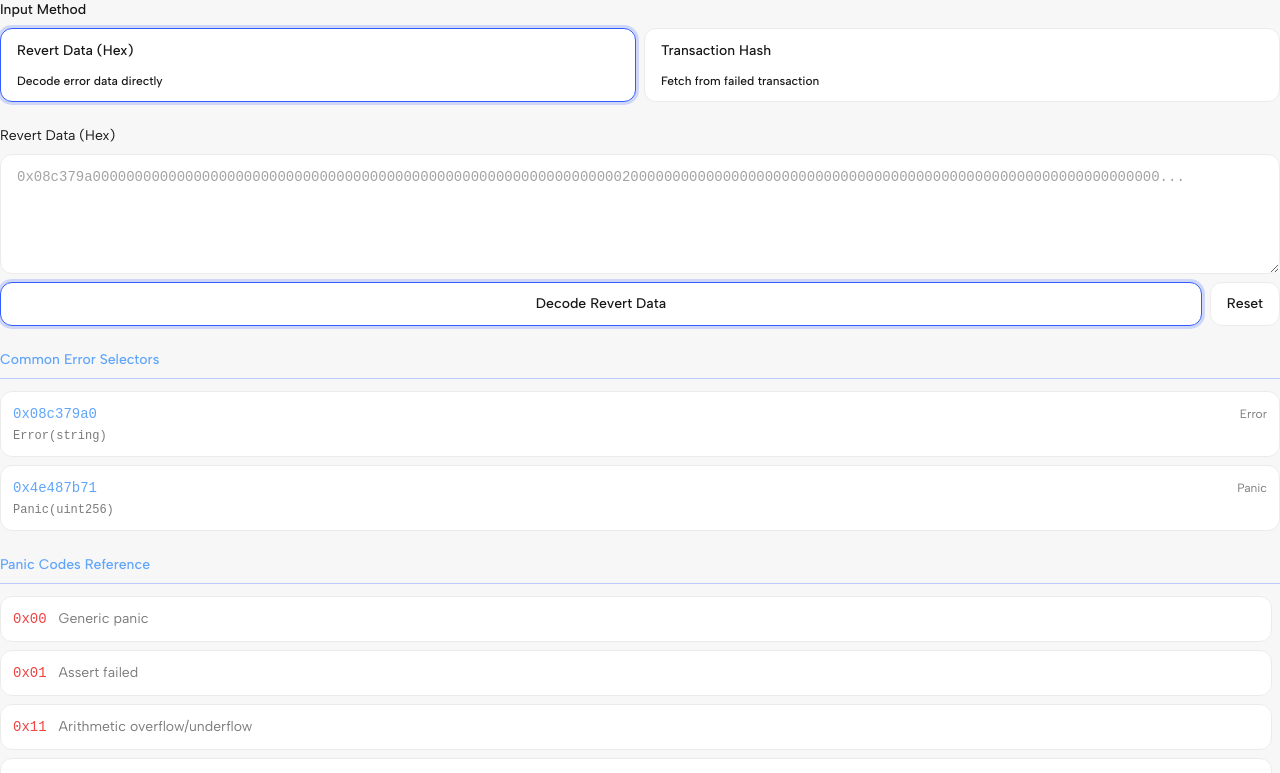
Scenario: RevertReasonDecoderTool › shows custom error for unknown selector
Replace the text in the text box with placeholder "0x08c379a0" with "0x12345678000000000000000000000000000000000000000000000000000000000000" at (640, 214), box [0,154,1279,274]
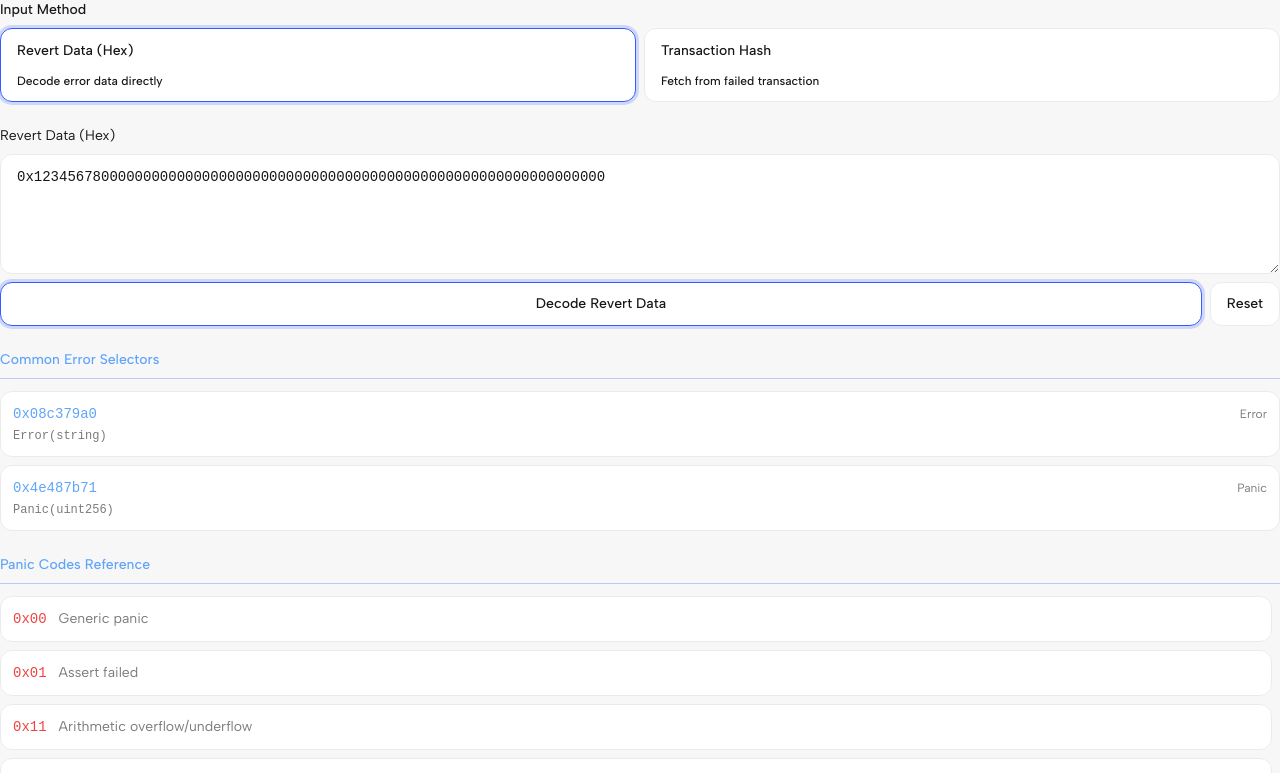
Click the button "Decode Revert Data" at (601, 304), box [0,282,1202,326]
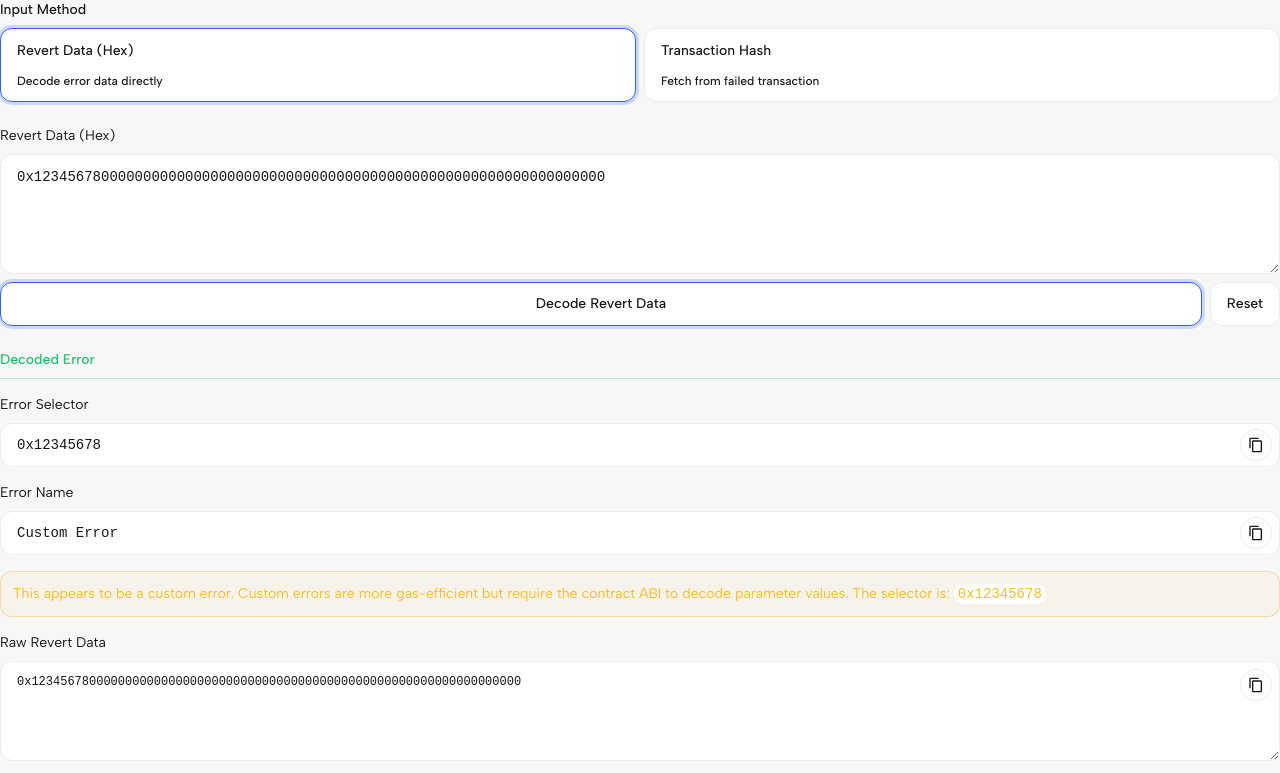
Expected: the text "custom error" is shown, [13,585,950,602]
